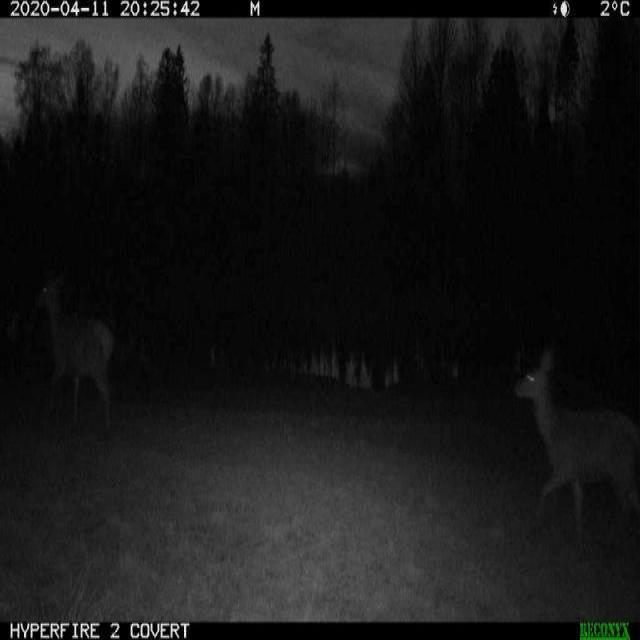deer: (512, 345, 634, 564), (20, 254, 119, 445)
